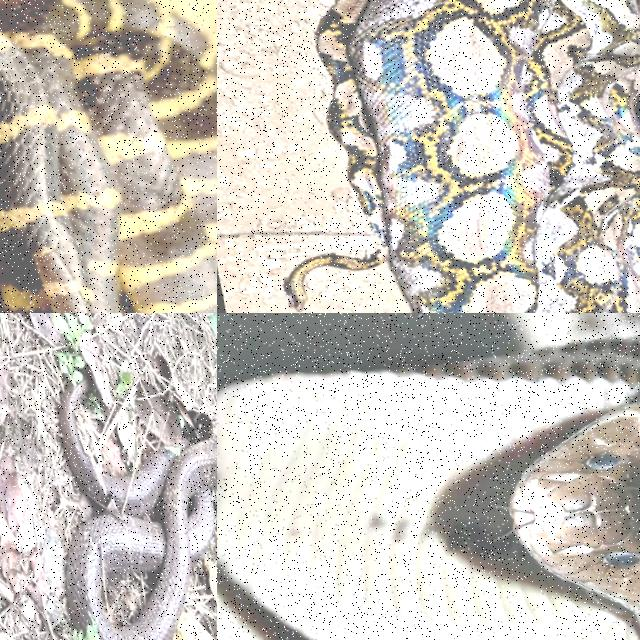Bungarus fasciatus: (0, 0, 216, 312)
Malayopython reticulatus: (313, 0, 639, 312)
Naja kaouthia: (59, 384, 216, 639)
Naja siamensis: (217, 313, 639, 639)
snake: (217, 313, 639, 639), (313, 0, 639, 312), (0, 0, 216, 312), (59, 384, 216, 639)
